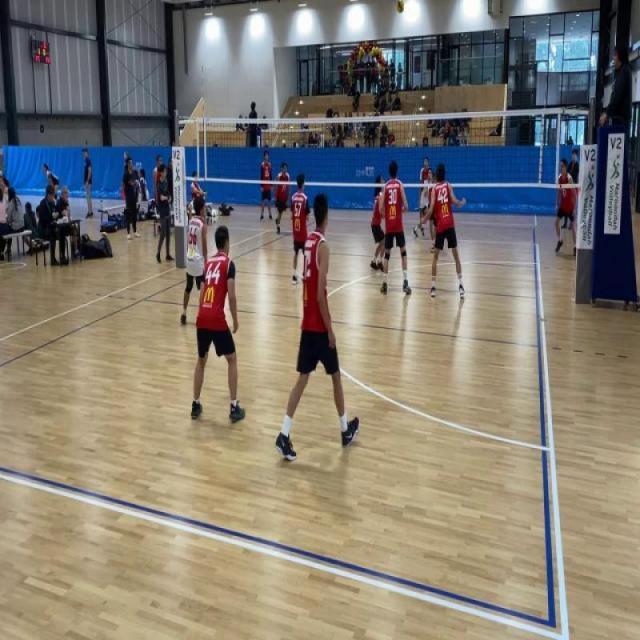volleyball: (396, 0, 404, 14), (100, 230, 108, 240)
